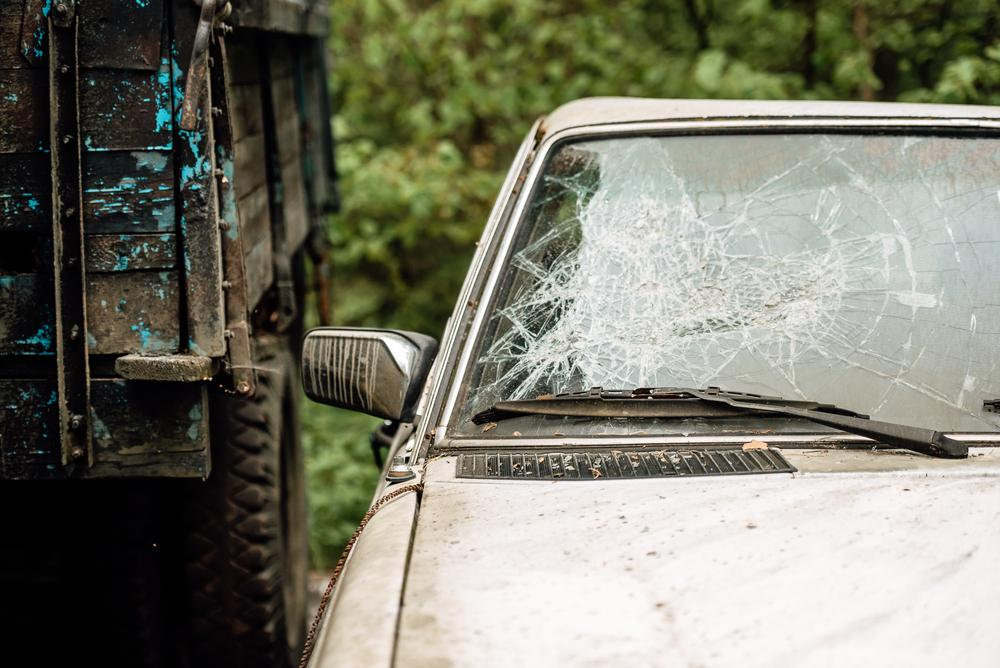glass shatter: (446, 134, 1000, 438)
